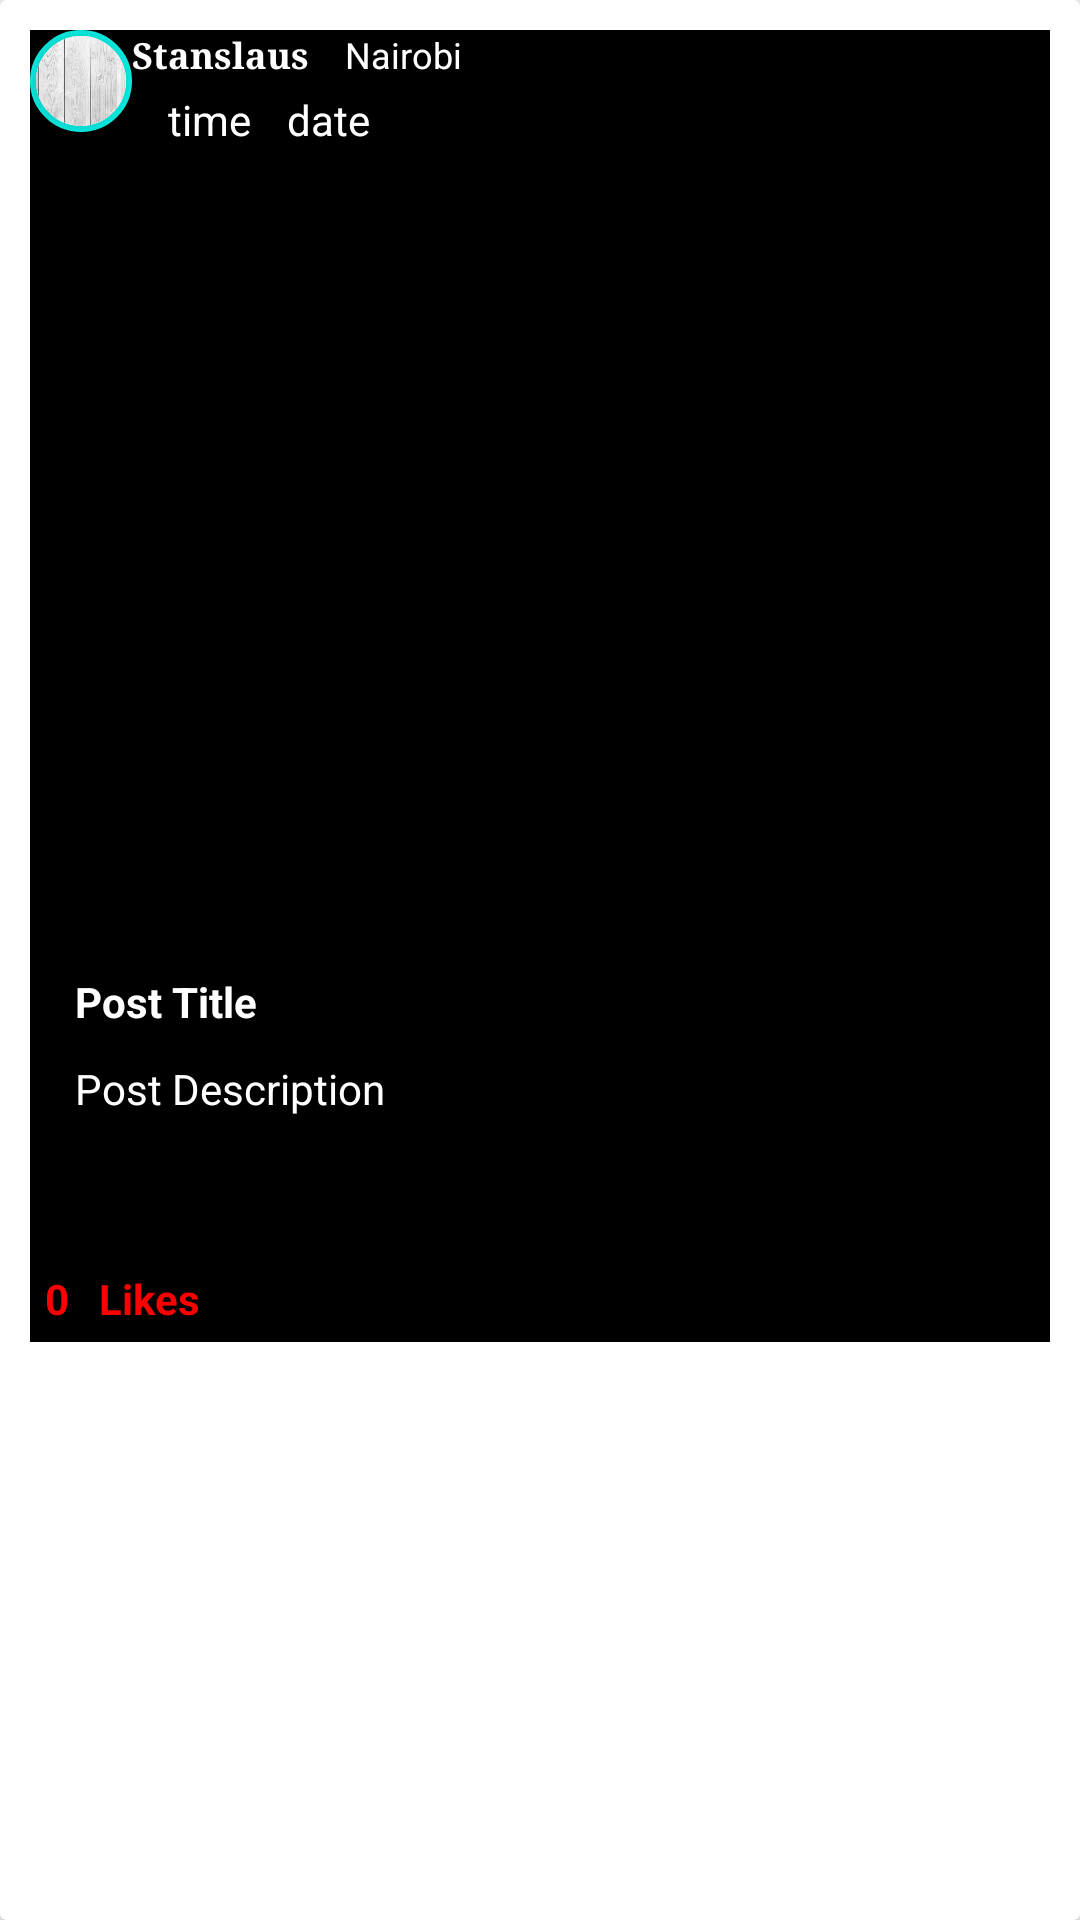

Icons on this 1080px x 1920px Android screen, each with its box as (x1, y1, x2, y2):
wood: (36, 36, 126, 126)
